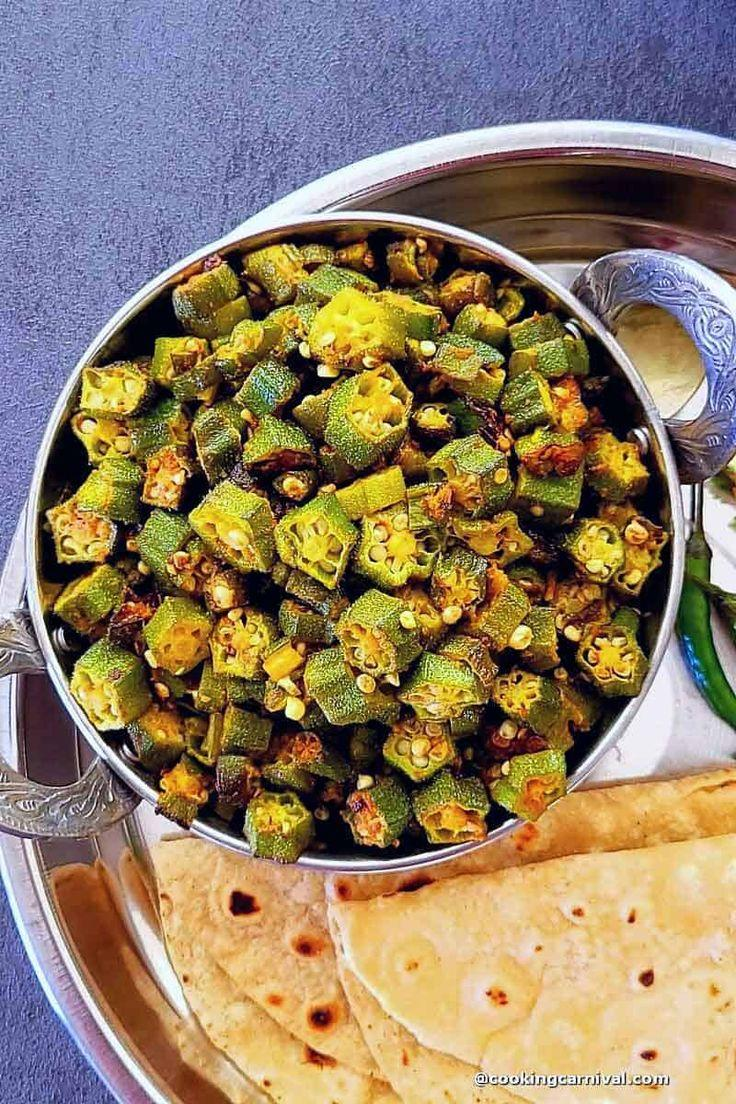bhindi: (88, 357, 651, 808)
